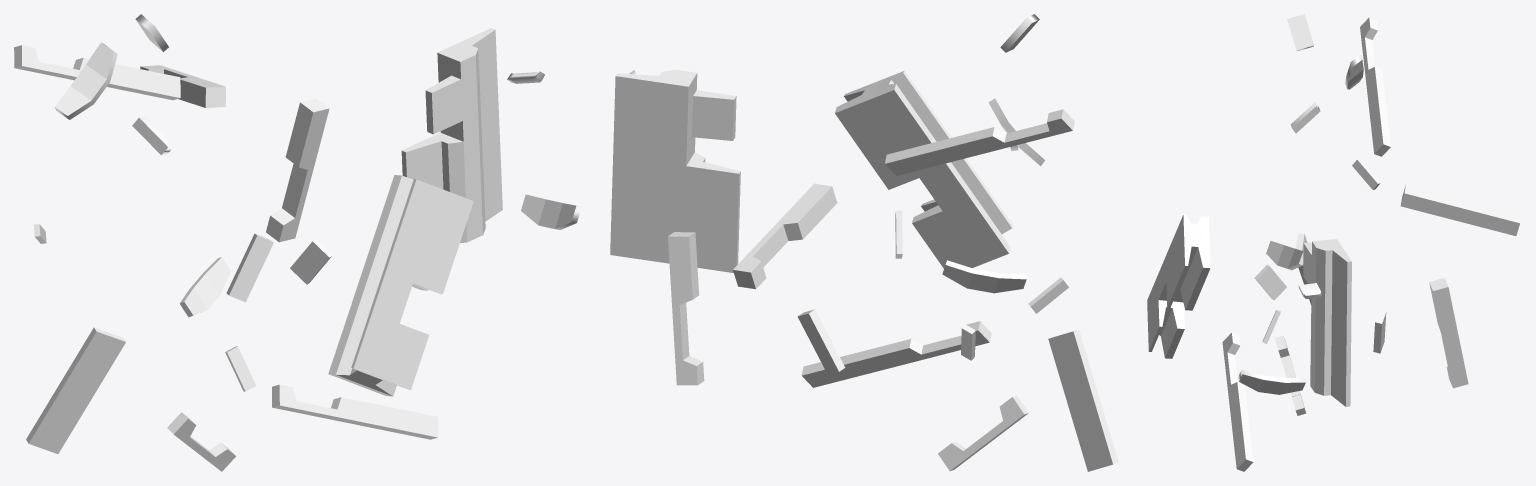
Rendered from kpr_small_debris_04.glb.
3 views of the same model, side by side, from view 1: azimuth 30°, elevation 25°; view 2: azimuth 150°, elevation 25°; view 3: azimuth 270°, elevation 25° (orthographic). The views are drawn at different scales.
Visible parts, largest first — view 1: kpr_small_debris_04; view 2: kpr_small_debris_04; view 3: kpr_small_debris_04.
Boxes of the visible parts, bbox=[...] form: kpr_small_debris_04: bbox=[14, 14, 581, 471]; kpr_small_debris_04: bbox=[610, 14, 1118, 471]; kpr_small_debris_04: bbox=[1147, 14, 1521, 471].
Bounding box in the file's own units: 44.84 × 40.12 × 36.55.
Materials: 1 (1 with a texture image).
